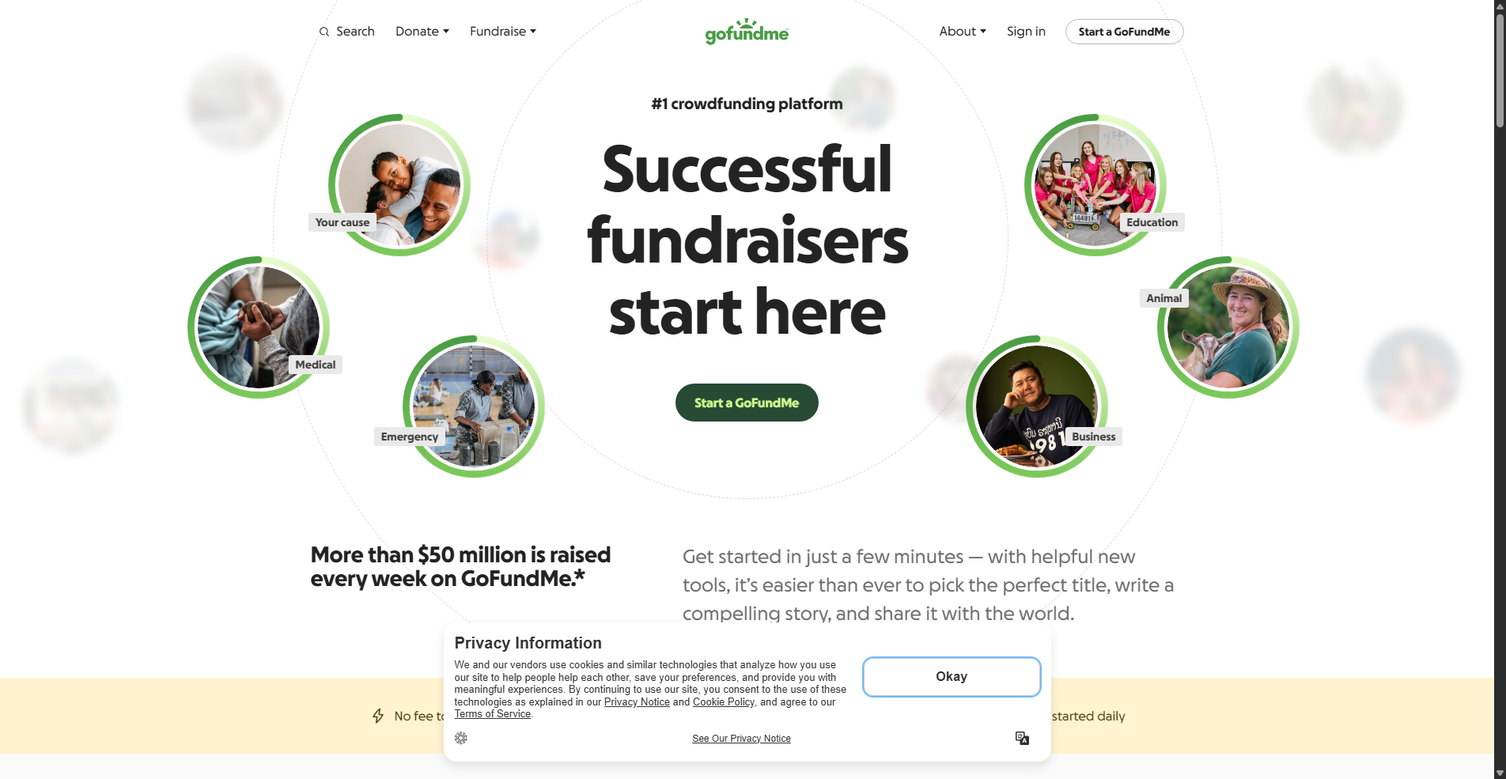button: (675, 383, 819, 421), (1066, 19, 1184, 44), (463, 18, 544, 45), (310, 18, 382, 45), (388, 18, 456, 45), (932, 18, 994, 45), (1000, 18, 1053, 45), (740, 6, 754, 33)
dropdown: (437, 64, 937, 374), (692, 63, 1192, 348), (363, 64, 863, 251), (704, 76, 1179, 108), (450, 77, 925, 108), (376, 77, 850, 108), (456, 18, 544, 45), (382, 18, 456, 45), (932, 18, 994, 45), (470, 24, 526, 39), (396, 24, 439, 39), (940, 24, 976, 39), (530, 29, 537, 33), (980, 29, 987, 33), (443, 29, 449, 33)
link: (402, 335, 545, 482), (965, 335, 1108, 482), (328, 114, 470, 261), (187, 256, 329, 403), (1157, 256, 1299, 403), (1024, 114, 1166, 261), (690, 176, 925, 238), (690, 238, 925, 300), (376, 176, 610, 238), (616, 176, 850, 238), (450, 176, 684, 238), (450, 238, 684, 300), (690, 115, 925, 176), (690, 300, 925, 361), (376, 115, 610, 176), (616, 115, 850, 176), (450, 115, 684, 176), (450, 300, 684, 361), (704, 202, 938, 247), (945, 202, 1179, 247), (704, 114, 938, 158), (704, 158, 938, 202), (704, 247, 938, 291), (704, 291, 938, 335), (945, 114, 1179, 158), (945, 158, 1179, 202), (945, 247, 1179, 291), (945, 291, 1179, 335), (706, 17, 789, 46)
